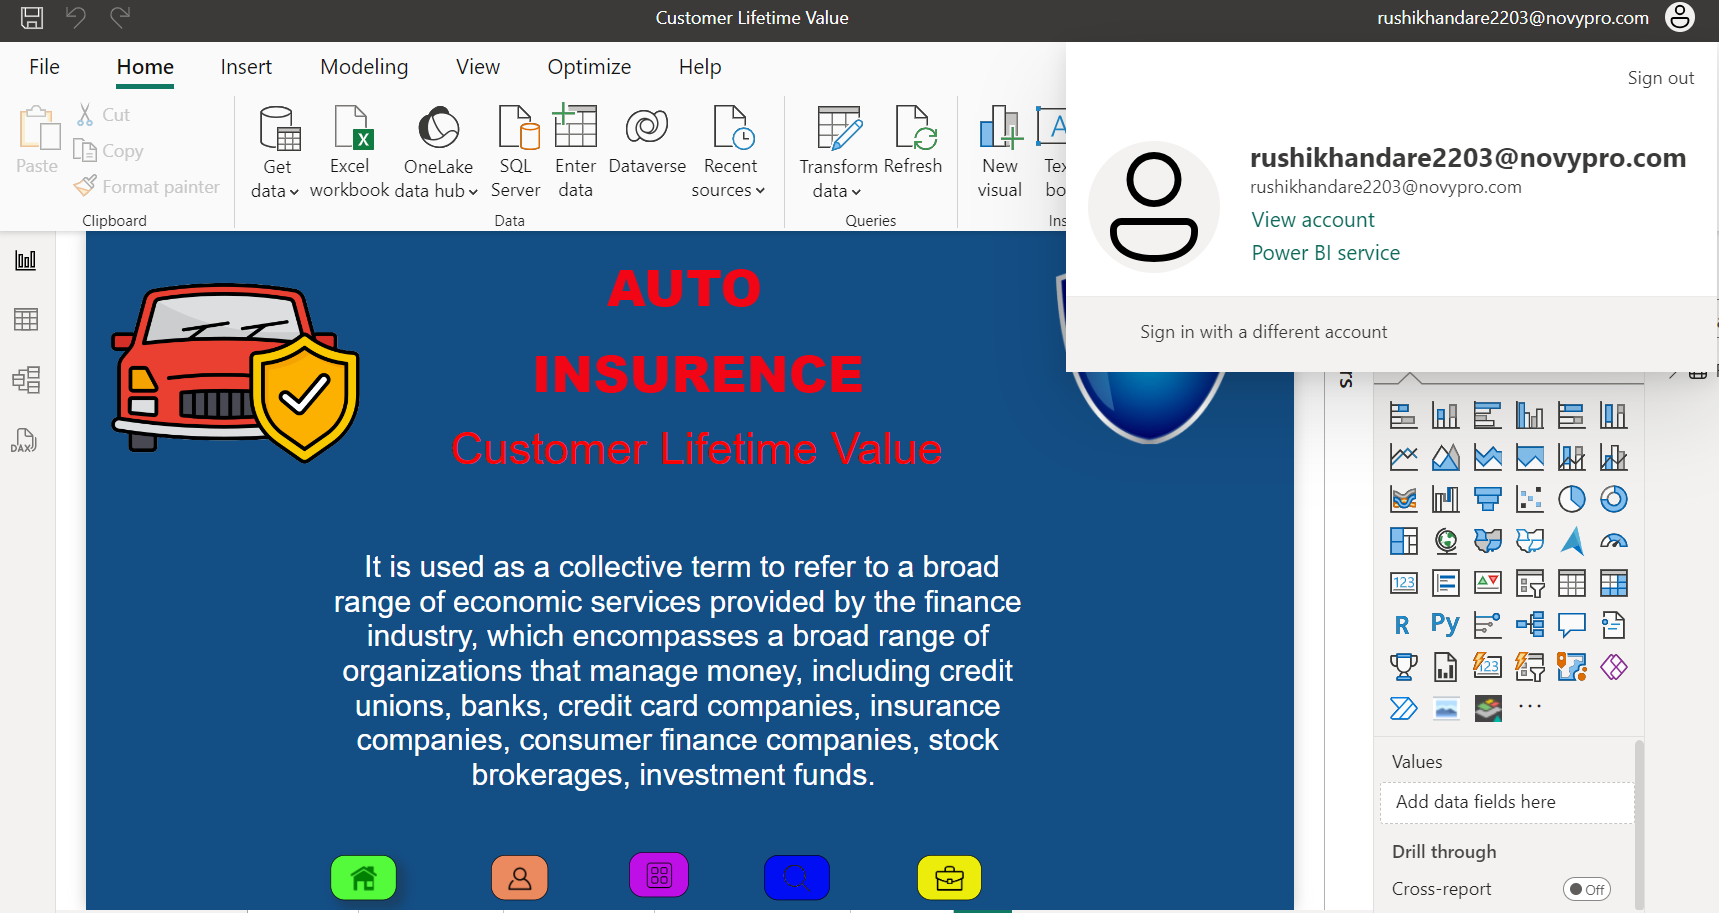

This screenshot's page, from the dashboard's own definition file:
{"tool":"powerbi","page":{"name":"Home","canvas":[1280,720],"ordinal":0},"visuals":[{"type":"image","box":[17.5,8,284.7,284.7],"z":0,"group":"g2"},{"type":"textbox","box":[547.8,16,188.3,90.7],"z":0,"group":"g3"},{"type":"group","id":"g1","title":"Group 2","box":[259.3,658.5,690.3,50.9],"z":0},{"type":"group","id":"g2","title":"Group 3","box":[17.5,8,1242.3,615.6],"z":1000},{"type":"image","box":[995.7,8,264,222.7],"z":1000,"group":"g2"},{"type":"textbox","box":[467.6,106.7,389.7,90.7],"z":1000,"group":"g3"},{"type":"group","id":"g3","title":"Group 1","box":[467.6,16,389.7,181.3],"z":2000,"group":"g2"},{"type":"image","box":[259.3,661.7,70,47.7],"z":2000,"group":"g1"},{"type":"textbox","box":[237,332.5,781,291.1],"z":3000,"group":"g2"},{"type":"image","box":[429.5,661.7,60.4,47.7],"z":3000,"group":"g1"},{"type":"textbox","box":[321.3,197.3,652.2,71.6],"z":4000,"group":"g2"},{"type":"image","box":[575.8,658.5,63.6,47.7],"z":4000,"group":"g1"},{"type":"image","box":[881.2,661.7,68.4,47.7],"z":5000,"group":"g1"},{"type":"image","box":[719,661.7,70,47.7],"z":6000,"group":"g1"}]}

Visuals, with their boxes on the page's 1280x720 design canvas (x1, y1, x2, y2). These are canvas units, not pixel positions in the 1719x913 screenshot, which may show the page scaled, cropped or inside an application window:
image: {"left": 18, "top": 8, "right": 302, "bottom": 293}
textbox: {"left": 548, "top": 16, "right": 736, "bottom": 107}
"Group 2" group: {"left": 259, "top": 658, "right": 950, "bottom": 709}
"Group 3" group: {"left": 18, "top": 8, "right": 1260, "bottom": 624}
image: {"left": 996, "top": 8, "right": 1260, "bottom": 231}
textbox: {"left": 468, "top": 107, "right": 857, "bottom": 197}
"Group 1" group: {"left": 468, "top": 16, "right": 857, "bottom": 197}
image: {"left": 259, "top": 662, "right": 329, "bottom": 709}
textbox: {"left": 237, "top": 332, "right": 1018, "bottom": 624}
image: {"left": 430, "top": 662, "right": 490, "bottom": 709}
textbox: {"left": 321, "top": 197, "right": 974, "bottom": 269}
image: {"left": 576, "top": 658, "right": 639, "bottom": 706}
image: {"left": 881, "top": 662, "right": 950, "bottom": 709}
image: {"left": 719, "top": 662, "right": 789, "bottom": 709}
